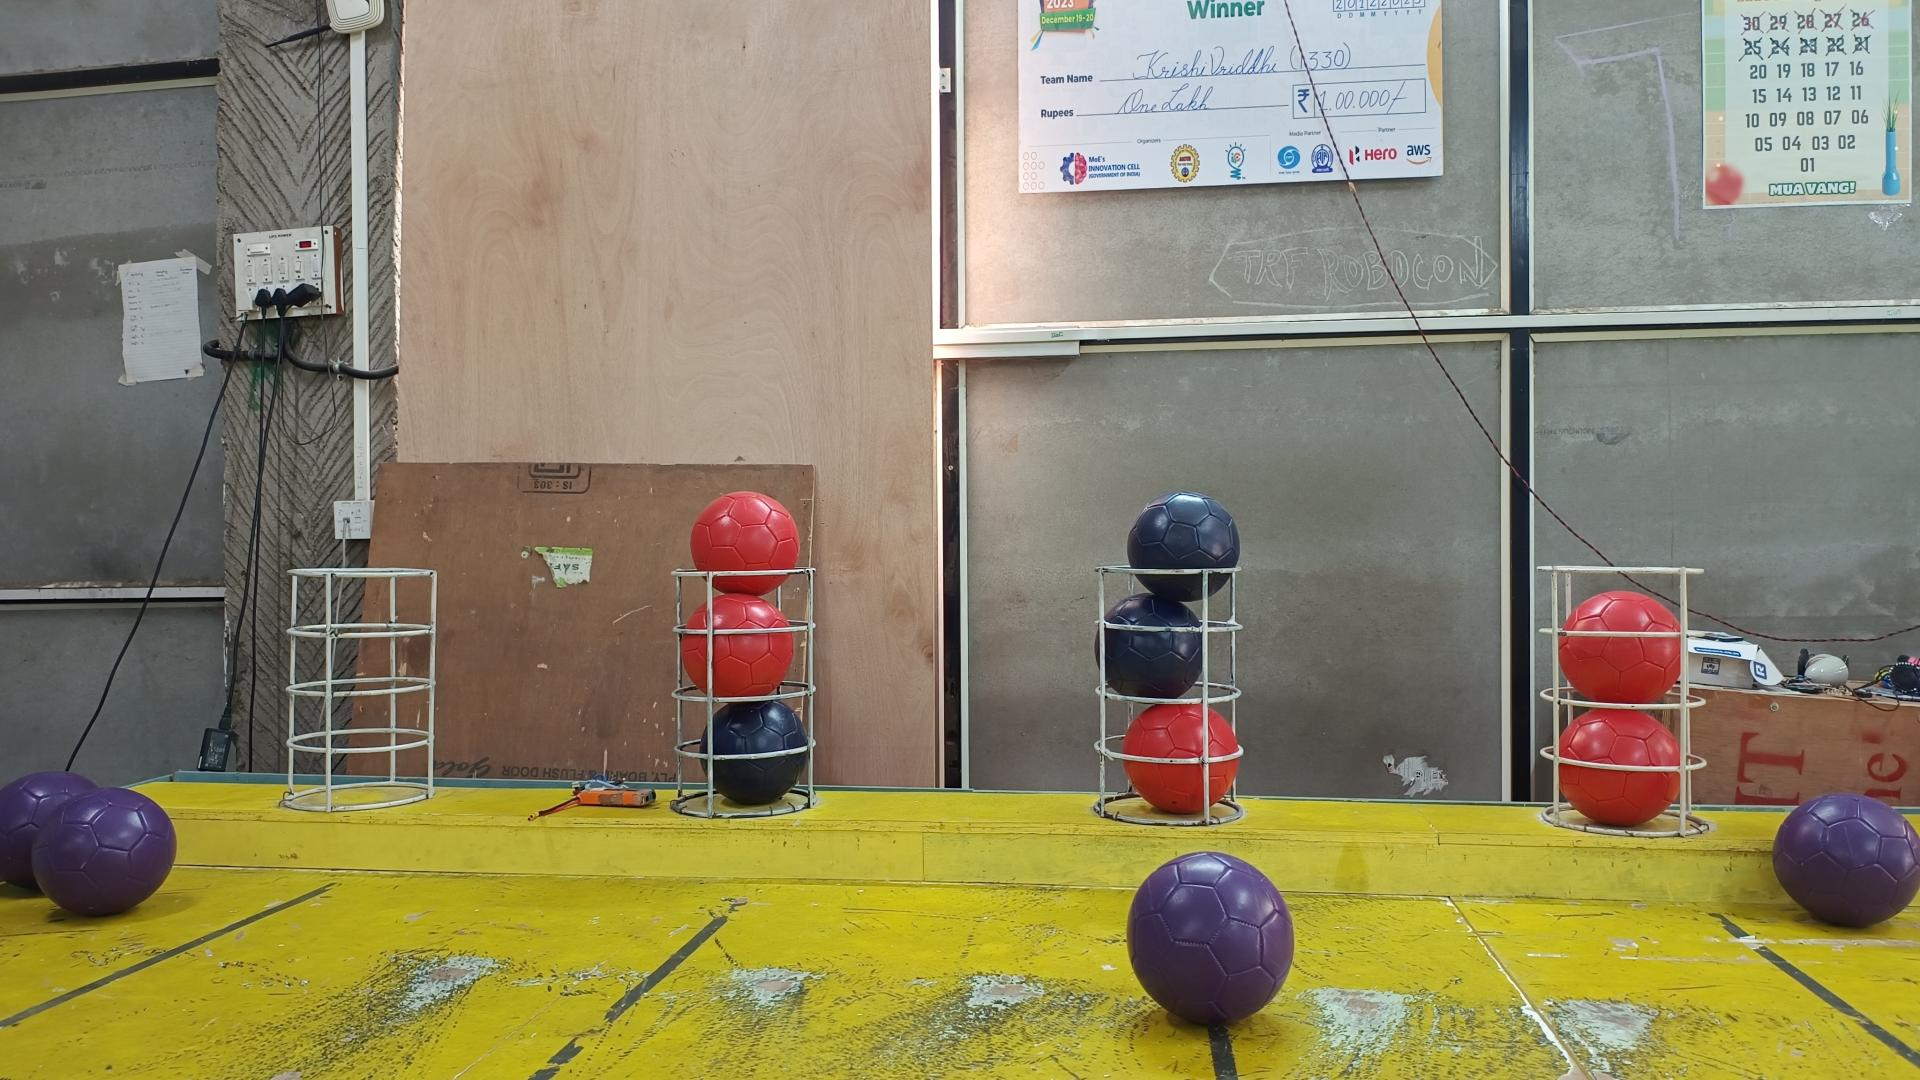dhoka: (1129, 492, 1241, 604), (702, 698, 810, 806), (1095, 592, 1204, 698)
laale: (1556, 708, 1684, 828), (1560, 592, 1680, 705), (1121, 705, 1241, 814), (679, 592, 795, 698), (690, 492, 799, 596)
